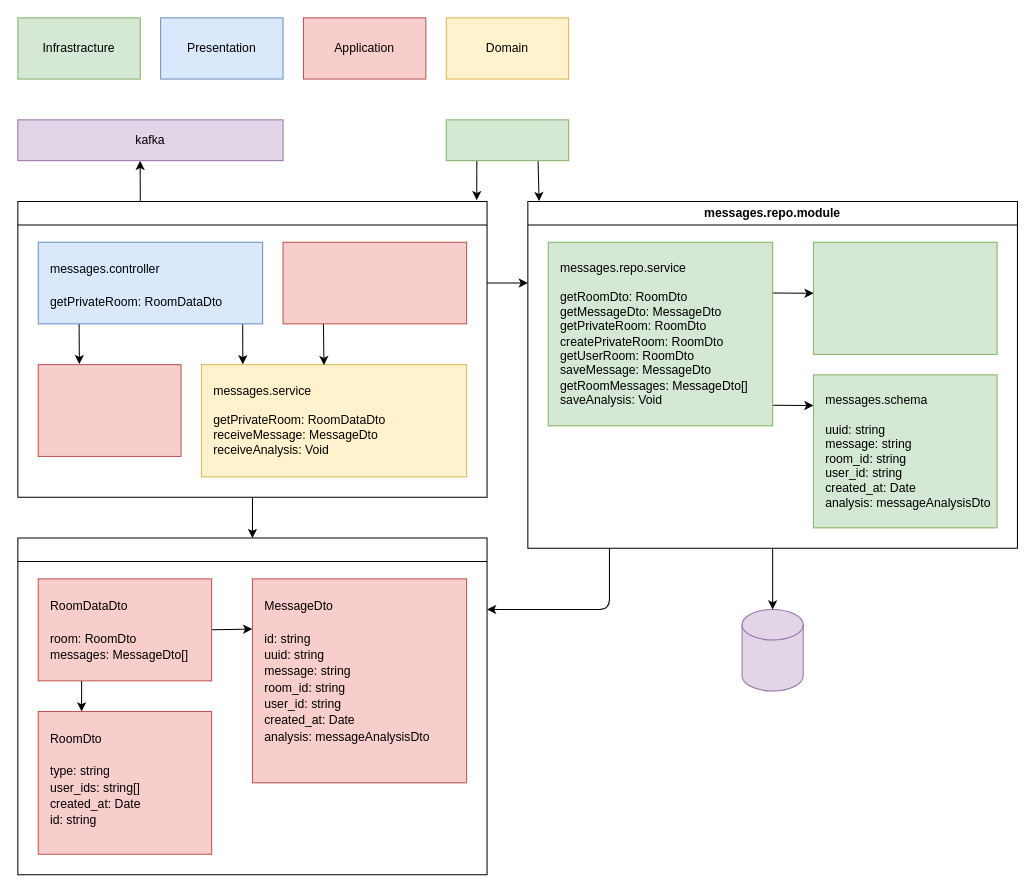
The diagram is 1035 pixels wide and 893 high, and some of its shapes have lost their labels. The box of each missing label's shape, as (x1, y1, x2, y2) in pixels:
Database: (741, 608, 803, 691)
kafka.controller receiveMessage receiveAnalysis: Void: (282, 241, 467, 324)
main: (445, 119, 569, 161)
messages.joi privateRoomQueryJoi: (37, 364, 181, 456)
messages.module: (17, 200, 487, 497)
micro-dto: (17, 537, 487, 875)
rooms.schema type : string user_ids : string [] created_at : Date: (812, 241, 997, 354)
